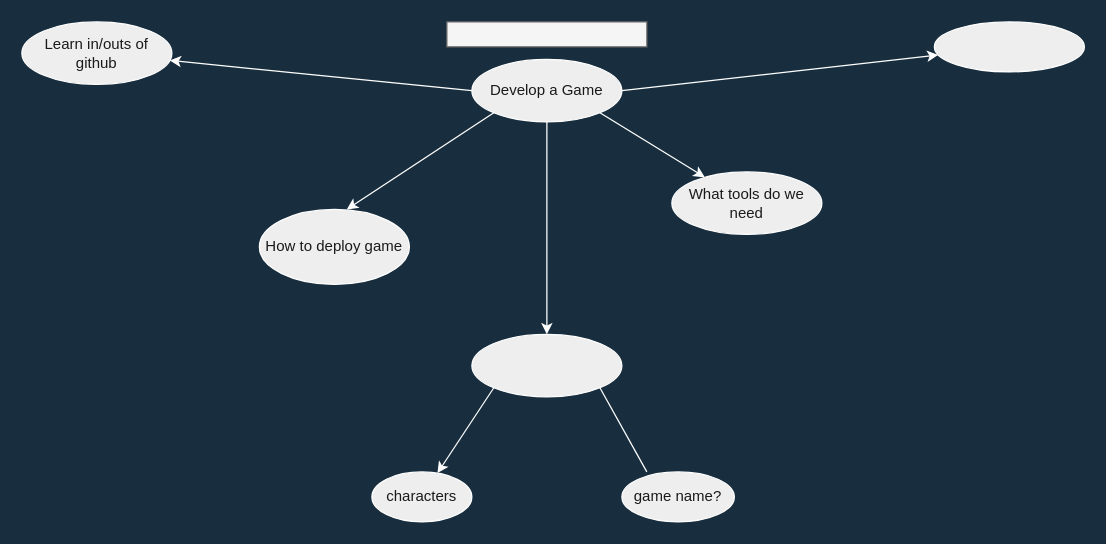
This 1106x544 diagram has some shape labels left out. The shapes that lost their labels are listed below. From the top down, each one's box as (x1, y1, x2, y2) in pixels, then its label:
(446, 21, 647, 47): %date{ddd mmm dd yyyy HH:MM:ss}%
(933, 21, 1084, 72): Learn Kotlin
(471, 333, 622, 397): What is the game
